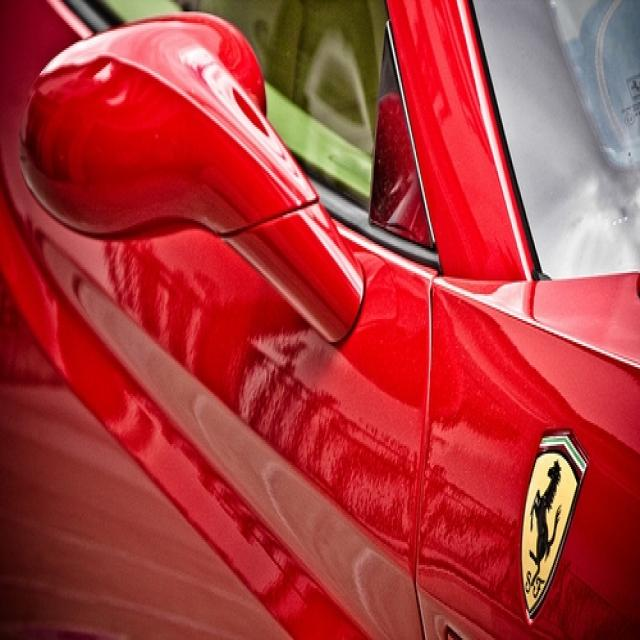ferrari: (521, 433, 590, 620)
